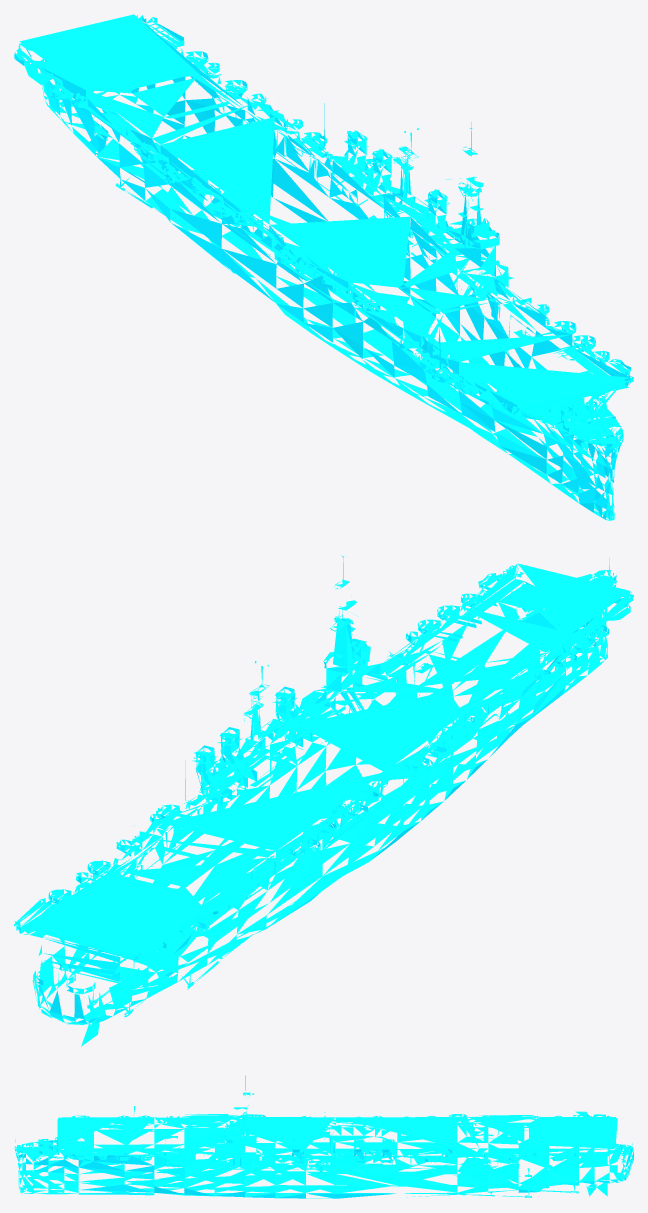
The model's file is Black_Saipan.glb.
3 renders of one model, top to bottom at view 1: azimuth 30°, elevation 25°; view 2: azimuth 150°, elevation 25°; view 3: azimuth 270°, elevation 25°, orthographic. The views are drawn at different scales.
Size of the model in its own units: 2.38 by 3.39 by 13.79.
